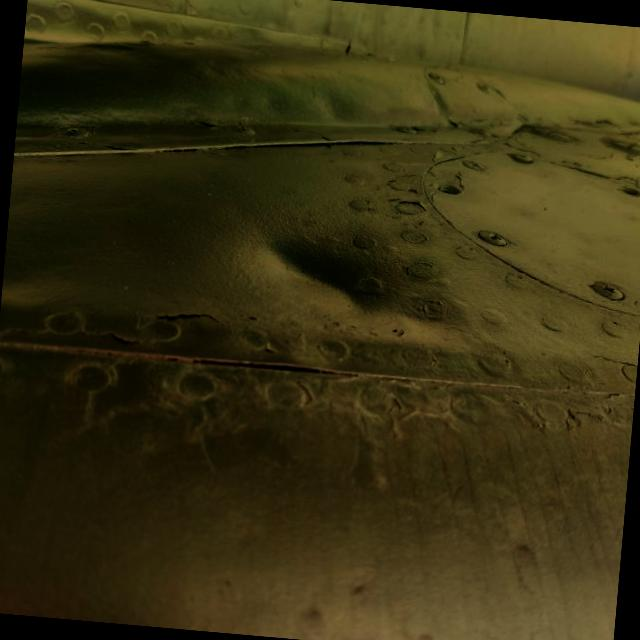dent: (230, 192, 446, 362)
